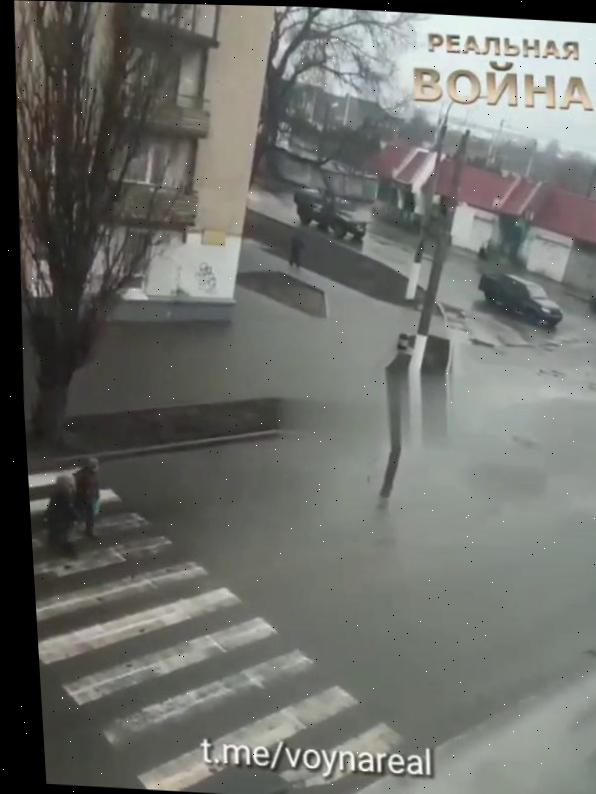armored_car: (290, 185, 368, 242)
car: (474, 267, 566, 328)
person: (34, 470, 84, 557), (65, 454, 106, 542), (284, 232, 307, 270)
